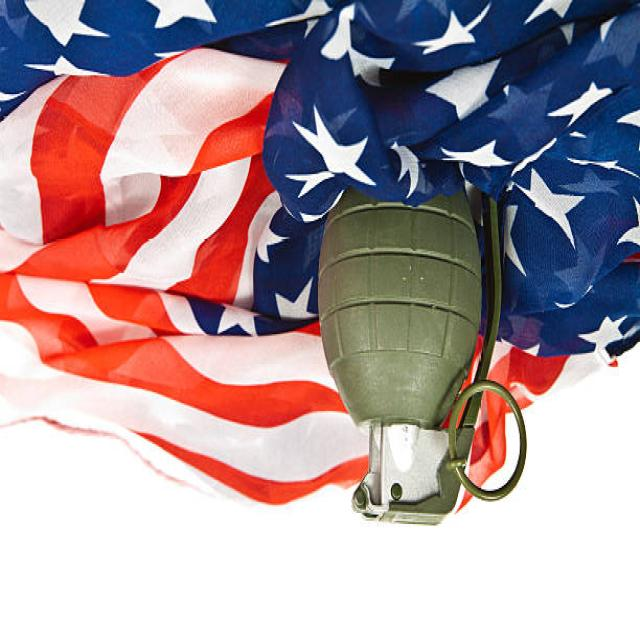grenade: (316, 181, 534, 536)
